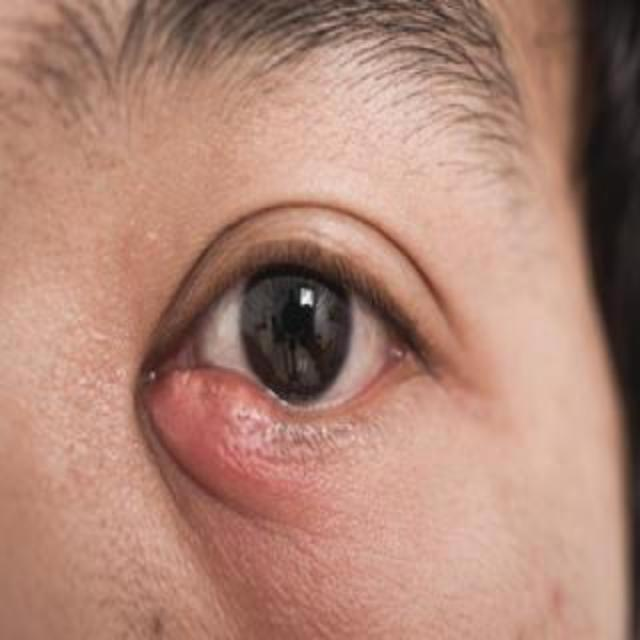Stye: (150, 312, 317, 512)
